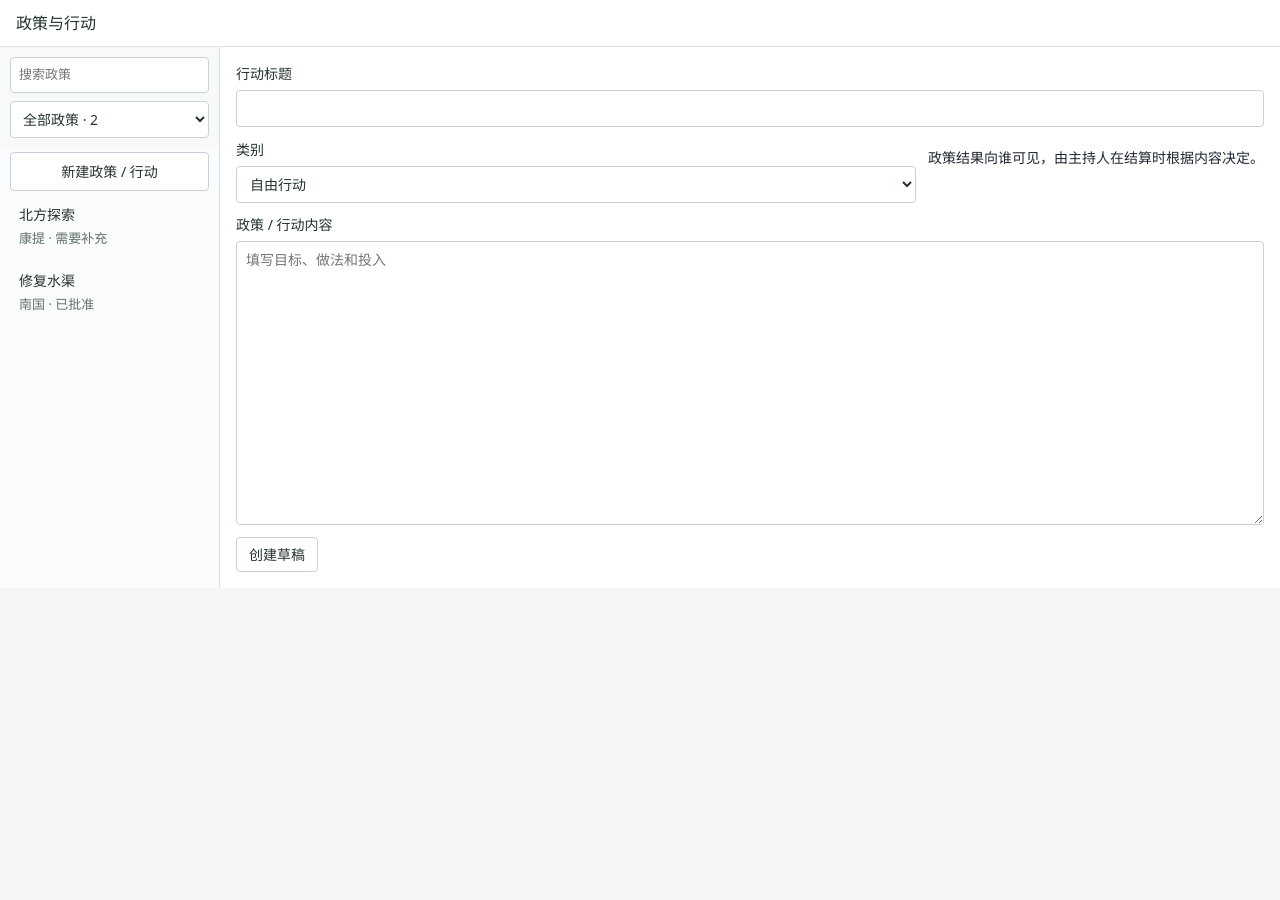
it: policy supplementation and formal submissions › finds policies by country and status without replacing the open editor
Click the button "北方探索 康提 · 需要补充": (110, 226) x1=10 y1=195 x2=209 y2=257
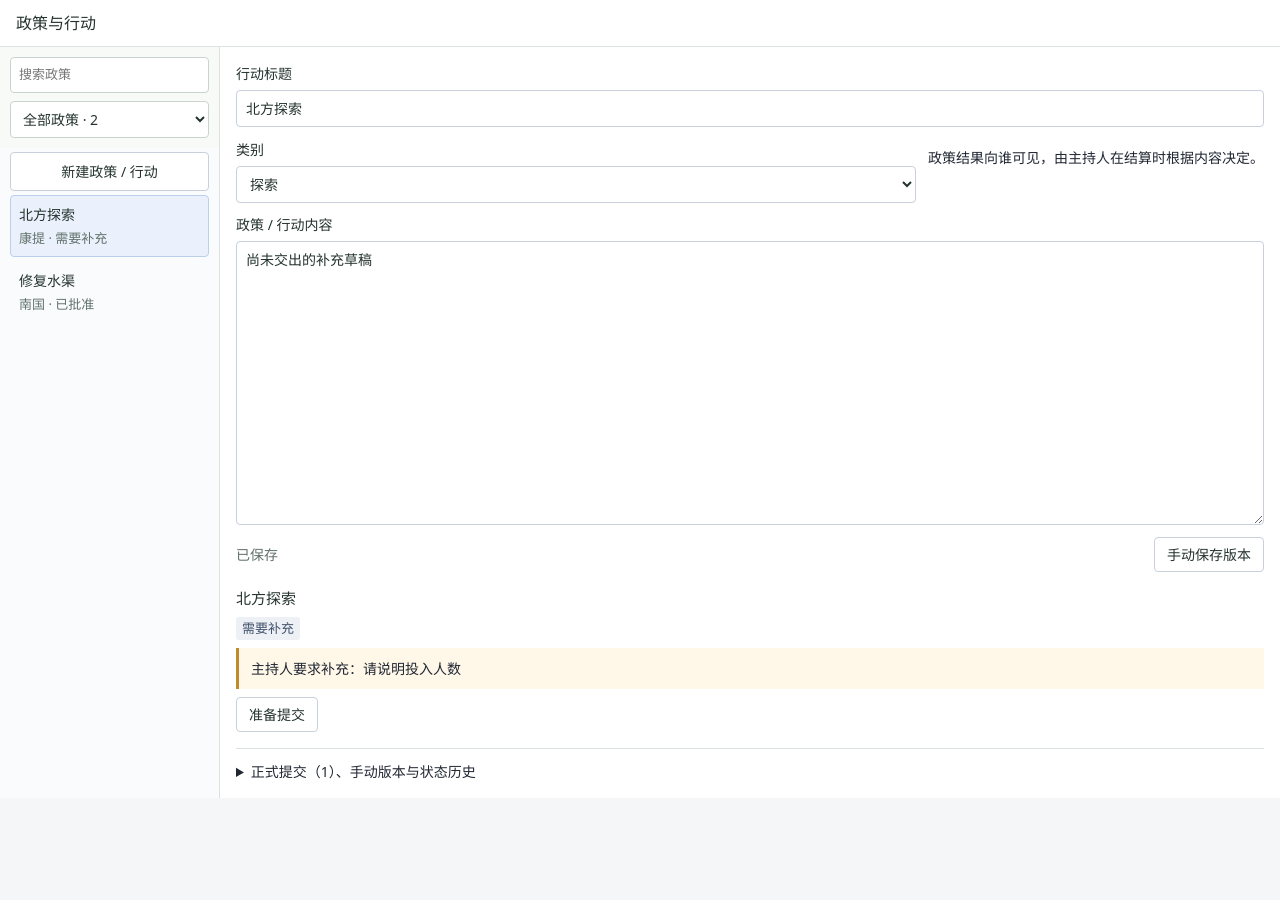
Expected: the text "主持人要求补充：请说明投入人数" is shown, x1=236 y1=648 x2=1264 y2=689
Replace the text in the text box labelled "政策 / 行动内容" with "投入三十人，保留原计划路线。": (750, 383) x1=236 y1=241 x2=1264 y2=526
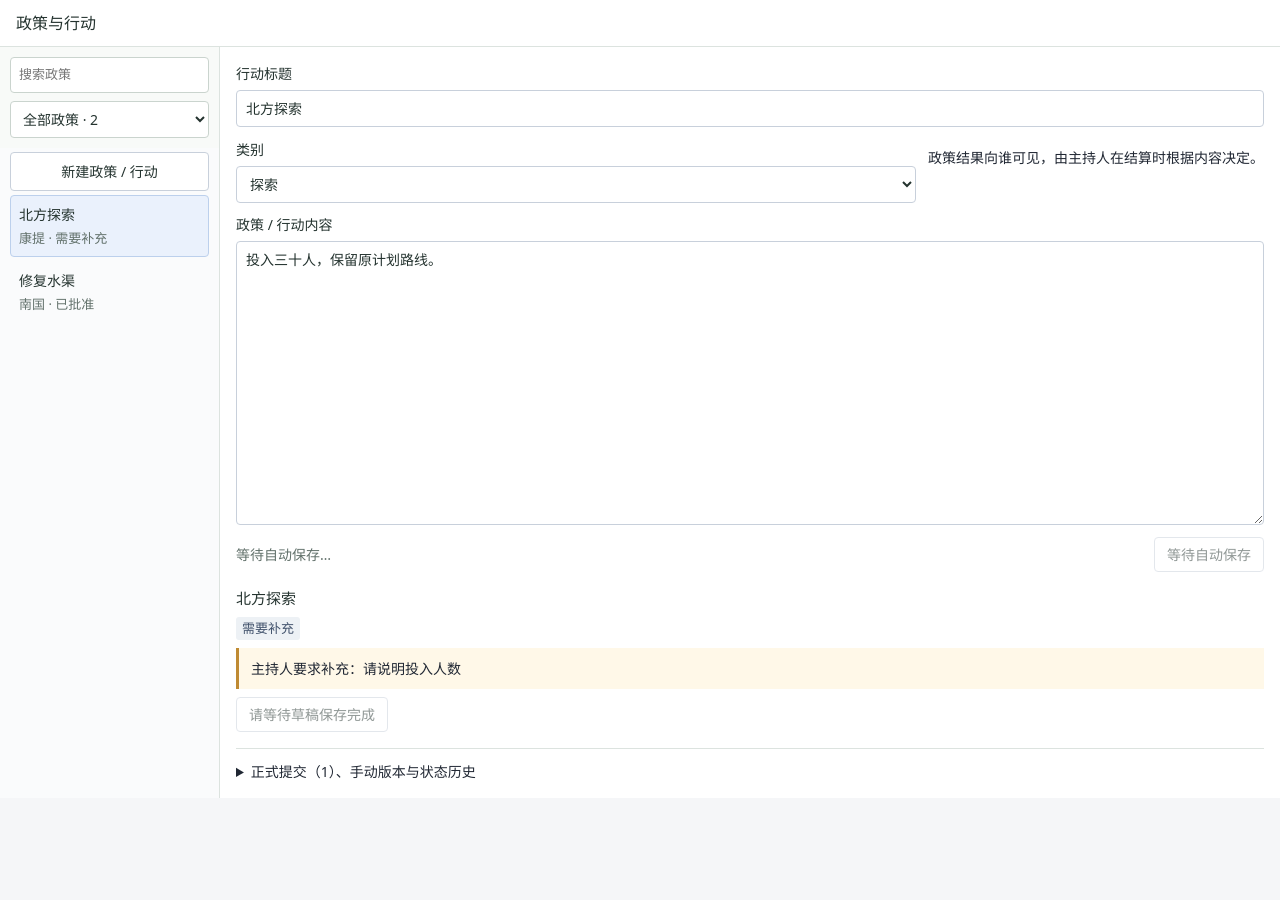
In the search field labelled "搜索政策": (110, 75) x1=10 y1=57 x2=209 y2=93, type "南国"
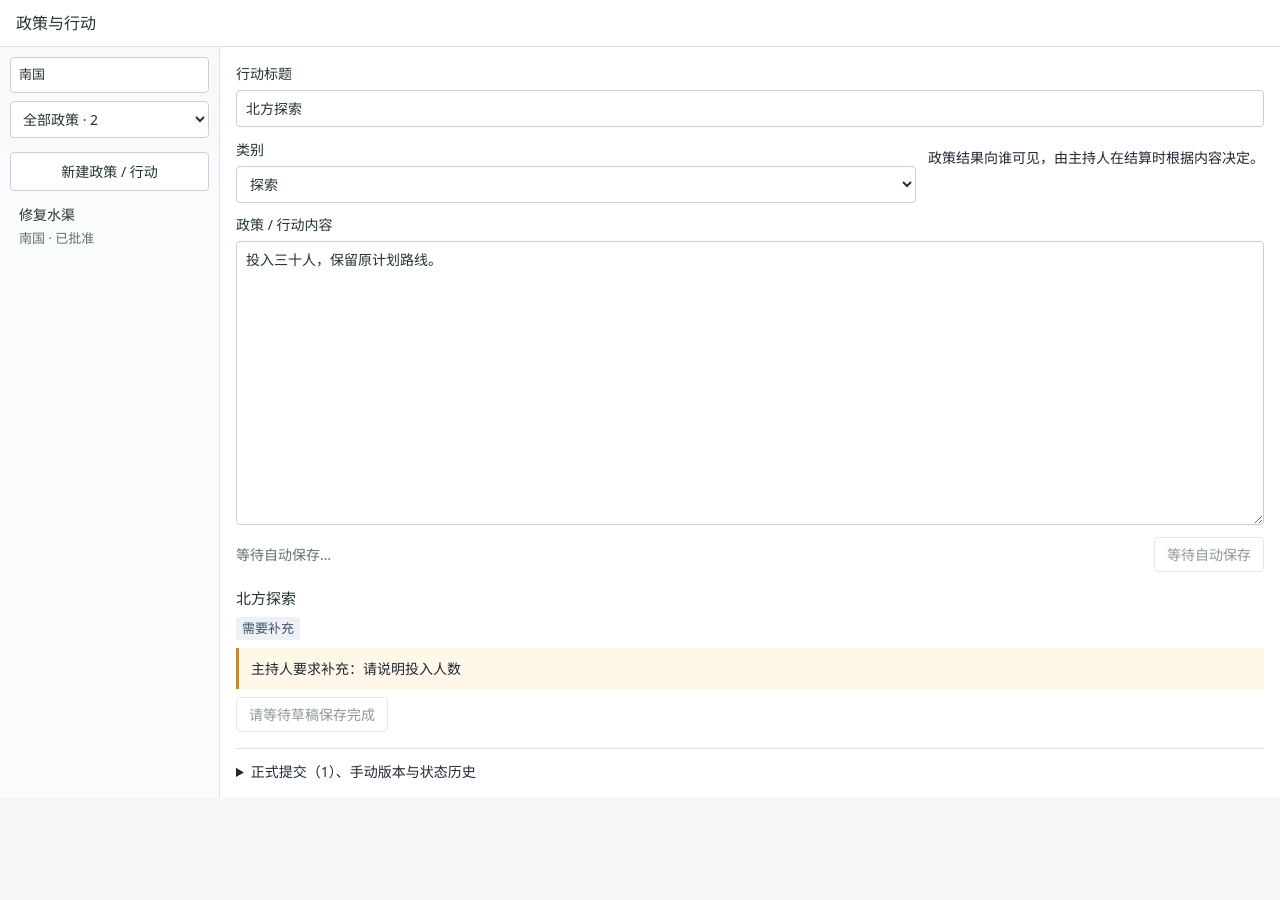
Expected: the button "修复水渠 南国 · 已批准" is shown, x1=10 y1=195 x2=209 y2=257
Expected: the button "北方探索 康提 · 需要补充" is gone
Select "待我处理 · 1" in the dropdown named "筛选政策状态": (110, 119) x1=10 y1=101 x2=209 y2=138
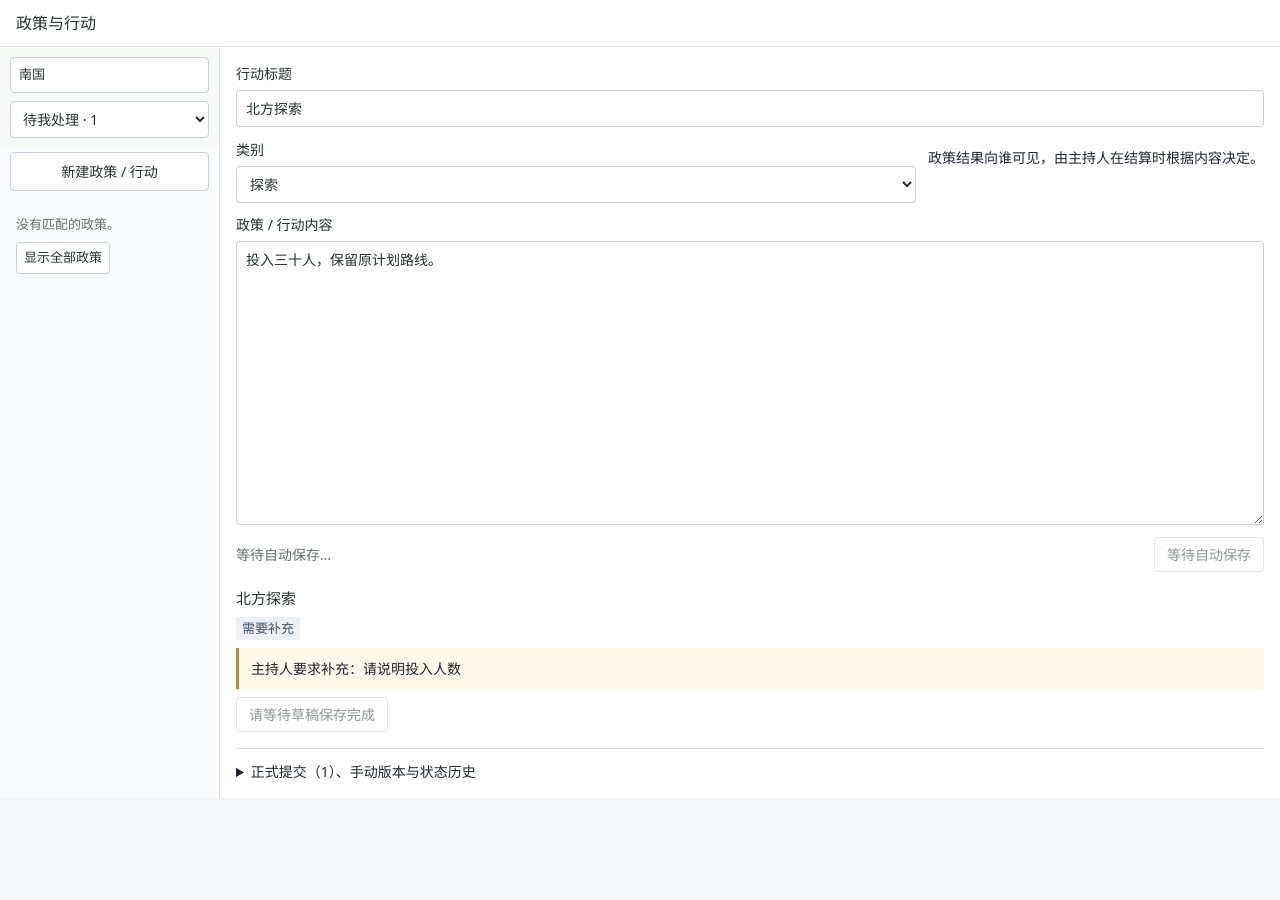
Expected: the text "没有匹配的政策。" is shown, x1=16 y1=215 x2=120 y2=233
Click the button "显示全部政策": (63, 258) x1=16 y1=242 x2=110 y2=274
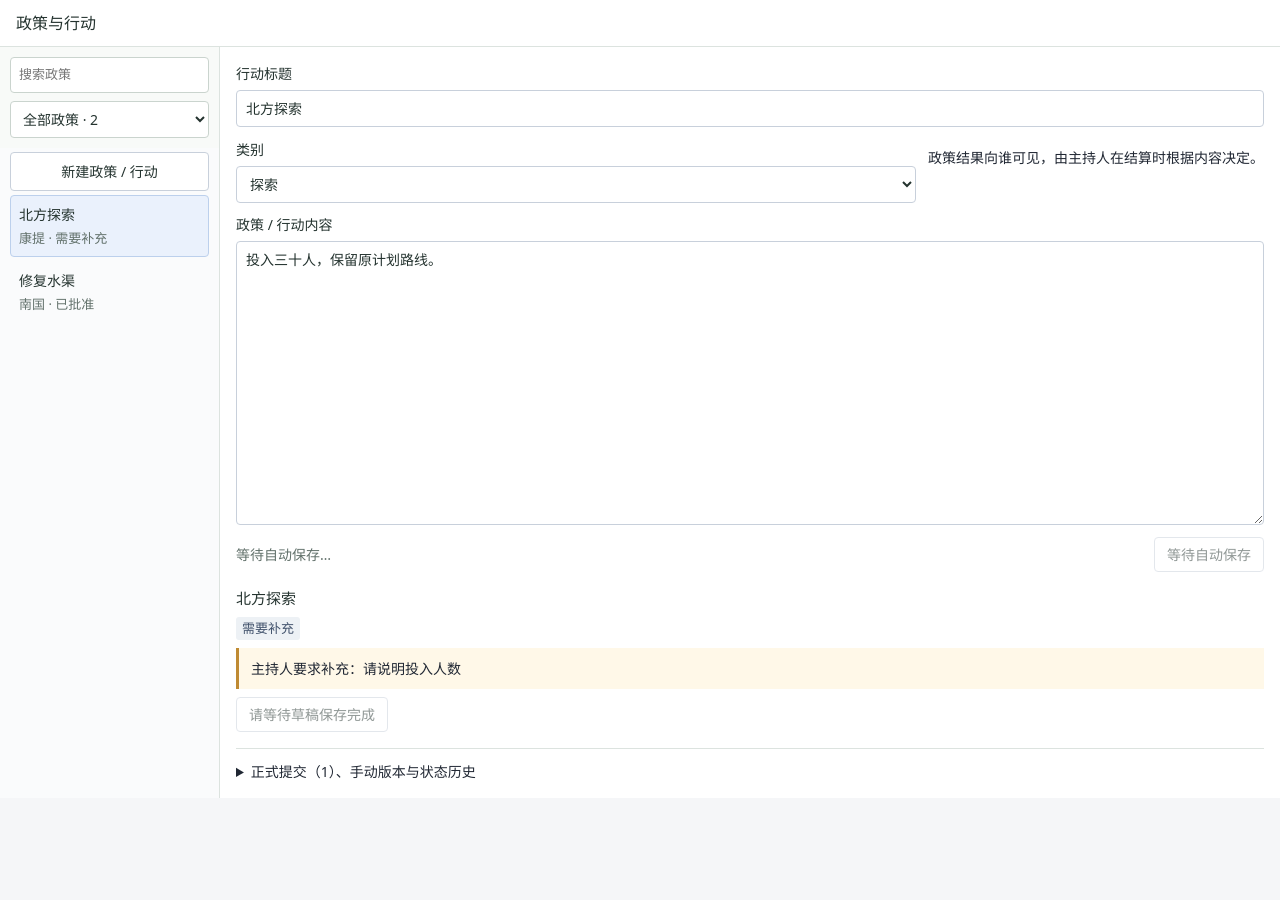
Expected: the button "北方探索 康提 · 需要补充" is shown, x1=10 y1=195 x2=209 y2=257
Expected: the button "修复水渠 南国 · 已批准" is shown, x1=10 y1=261 x2=209 y2=324
